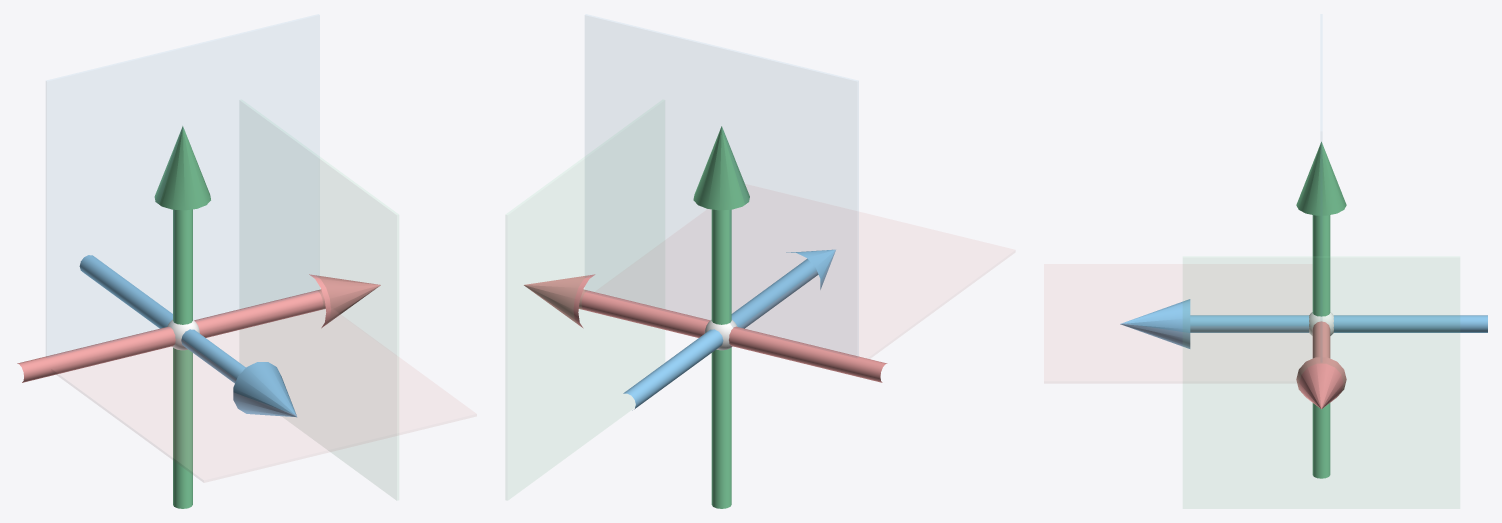
The model's file is coordinate-system.glb.
3 views of the same model, side by side, from view 1: azimuth 30°, elevation 25°; view 2: azimuth 150°, elevation 25°; view 3: azimuth 270°, elevation 25° (orthographic). The views are drawn at different scales.
Visible parts, largest first — view 1: xz_plane, xy_plane, yz_plane, y_axis, x_axis, z_axis; view 2: xz_plane, yz_plane, xy_plane, y_axis, x_axis, z_axis; view 3: yz_plane, xy_plane, z_axis, y_axis, x_axis.
Part boxes in pixels (x1,y1,x2,y2): xz_plane: (46, 15, 319, 357); xy_plane: (52, 303, 476, 481); yz_plane: (319, 158, 398, 499); y_axis: (154, 126, 210, 508); x_axis: (17, 274, 380, 382); z_axis: (79, 255, 296, 417); xz_plane: (585, 15, 858, 357); yz_plane: (506, 158, 664, 499); xy_plane: (859, 212, 1014, 358); y_axis: (693, 126, 749, 508); x_axis: (524, 274, 887, 382); z_axis: (623, 249, 835, 410); yz_plane: (1183, 257, 1459, 508); xy_plane: (1044, 264, 1181, 382); z_axis: (1120, 299, 1487, 348); y_axis: (1296, 141, 1346, 478); x_axis: (1296, 321, 1346, 408).
Bounding box in the file's own units: 1.01 × 1.22 × 1.22.
